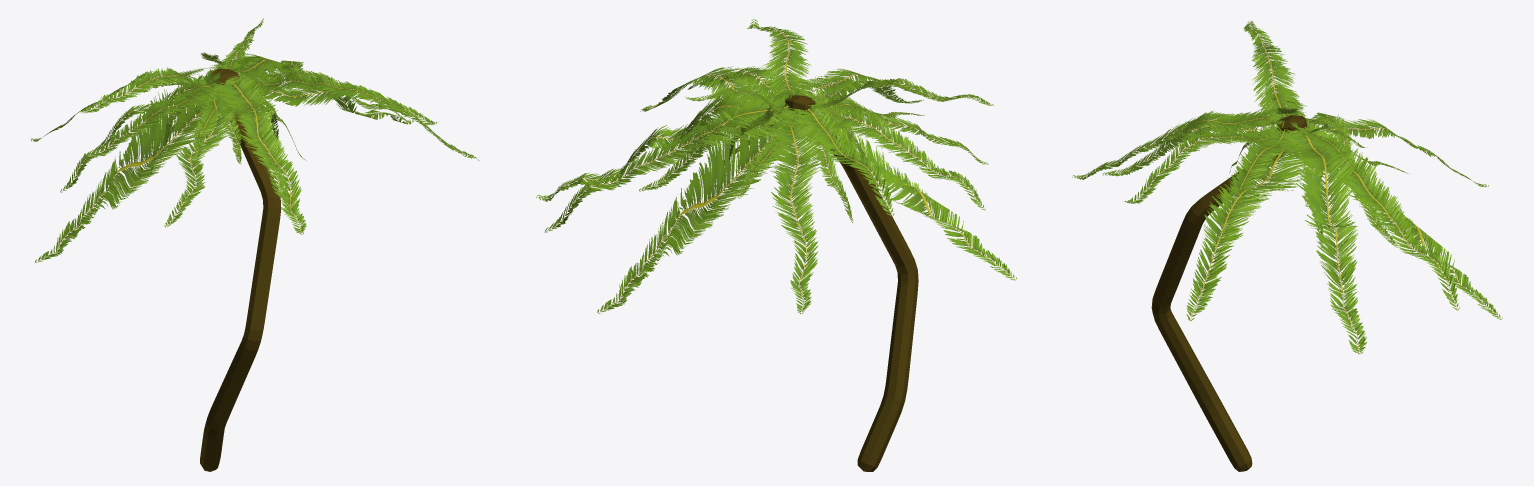
Rendered from Palm Tree 2.fbx.
3 renders of one model, left to right at view 1: azimuth 30°, elevation 25°; view 2: azimuth 150°, elevation 25°; view 3: azimuth 270°, elevation 25°, orthographic. The views are drawn at different scales.
Visible parts, largest first — view 1: Palm Tree 2; view 2: Palm Tree 2; view 3: Palm Tree 2.
Part boxes in pixels (left/top/right/bottom): Palm Tree 2: left=31, top=18, right=478, bottom=471; Palm Tree 2: left=536, top=19, right=1016, bottom=471; Palm Tree 2: left=1072, top=20, right=1502, bottom=471.
Bounding box in the file's own units: 402 × 350 × 362.
